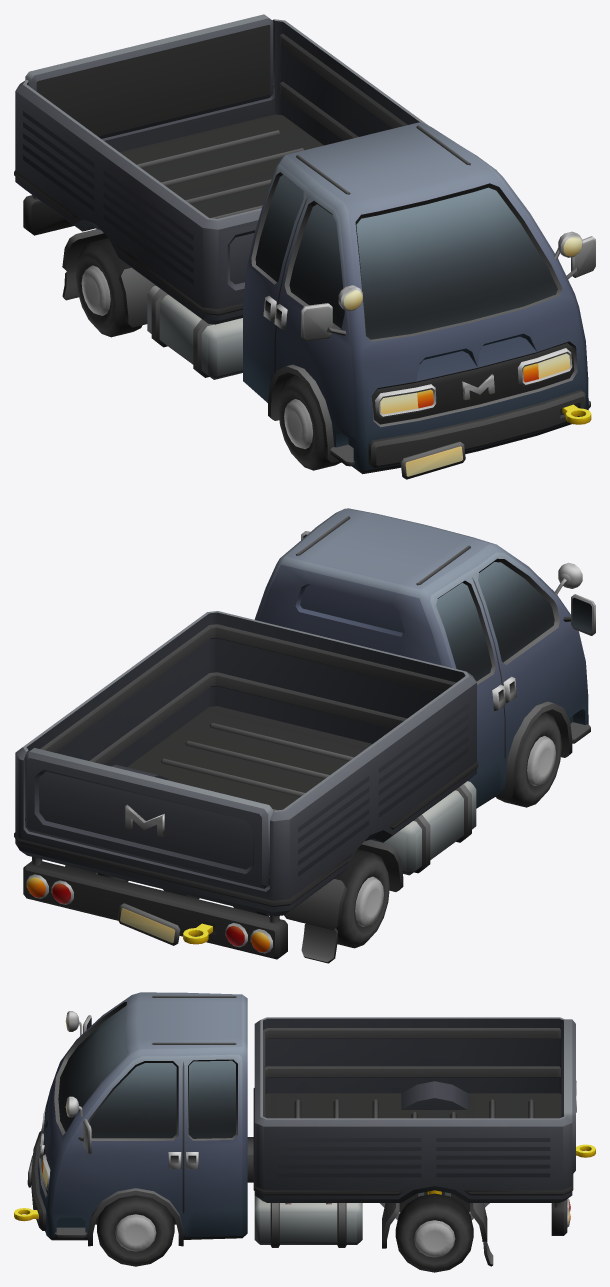
Rendered from Car_10C.fbx.
The picture shows the model from 3 angles, top to bottom: view 1: azimuth 30°, elevation 25°; view 2: azimuth 150°, elevation 25°; view 3: azimuth 270°, elevation 25°; orthographic projection. The views are drawn at different scales.
Parts seen in each view (by area): view 1: Car_10C, Tailgate_10C, Wheel_10C_R.R, Wheel_10C_F.R; view 2: Car_10C, Tailgate_10C, Wheel_10C_R.R, Wheel_10C_F.R; view 3: Car_10C, Wheel_10C_R.L, Wheel_10C_F.L, Tailgate_10C.
Boxes of the visible parts, left/top/right/bottom form: Car_10C: left=14, top=19, right=595, bottom=479; Tailgate_10C: left=25, top=14, right=273, bottom=138; Wheel_10C_R.R: left=76, top=238, right=142, bottom=337; Wheel_10C_F.R: left=278, top=375, right=341, bottom=470; Car_10C: left=14, top=508, right=595, bottom=963; Tailgate_10C: left=25, top=748, right=273, bottom=888; Wheel_10C_R.R: left=334, top=849, right=389, bottom=948; Wheel_10C_F.R: left=496, top=712, right=561, bottom=807; Car_10C: left=14, top=992, right=595, bottom=1266; Wheel_10C_R.L: left=395, top=1193, right=473, bottom=1272; Wheel_10C_F.L: left=97, top=1195, right=174, bottom=1266; Tailgate_10C: left=561, top=1019, right=576, bottom=1174.
Bounding box in the file's own units: 2.79 × 2.3 × 5.98.
